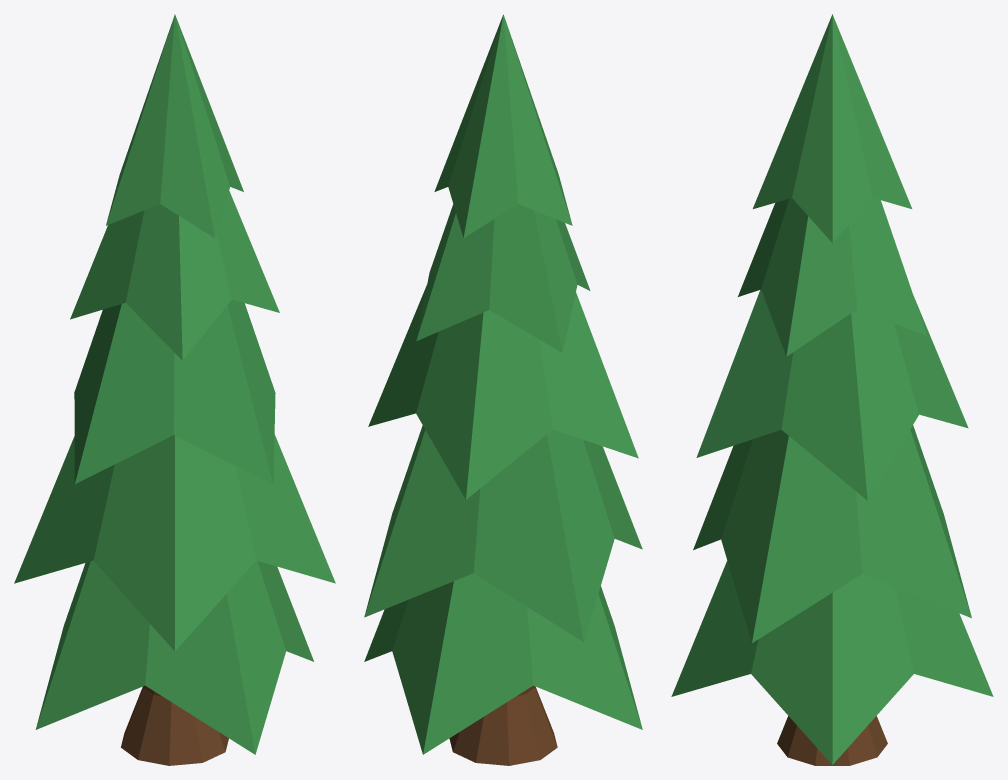
The model's file is spruce4.fbx.
The picture shows the model from 3 angles, left to right: view 1: azimuth 30°, elevation 25°; view 2: azimuth 150°, elevation 25°; view 3: azimuth 270°, elevation 25°; orthographic projection.
Parts seen in each view (by area): view 1: Cone.012, Cone.013, Cone.011, Cone.010, Cone.009, Cylinder.002; view 2: Cone.012, Cone.011, Cone.013, Cone.010, Cone.009, Cylinder.002; view 3: Cone.012, Cone.013, Cone.011, Cone.010, Cone.009, Cylinder.002.
Part boxes in pixels (bbox=[...]): Cone.012: bbox=[14, 434, 335, 651]; Cone.013: bbox=[35, 560, 313, 754]; Cone.011: bbox=[74, 299, 275, 484]; Cone.010: bbox=[70, 190, 279, 360]; Cone.009: bbox=[106, 14, 243, 237]; Cylinder.002: bbox=[121, 685, 228, 765]; Cone.012: bbox=[364, 425, 642, 642]; Cone.011: bbox=[368, 285, 638, 499]; Cone.013: bbox=[364, 573, 642, 754]; Cone.010: bbox=[416, 204, 590, 352]; Cone.009: bbox=[434, 14, 572, 238]; Cylinder.002: bbox=[449, 685, 557, 765]; Cone.012: bbox=[693, 425, 971, 642]; Cone.013: bbox=[671, 561, 993, 764]; Cone.011: bbox=[696, 289, 968, 500]; Cone.010: bbox=[738, 198, 927, 356]; Cone.009: bbox=[753, 14, 911, 242]; Cylinder.002: bbox=[777, 716, 887, 765].
Bounding box in the file's own units: 1427 × 3565 × 1427.
